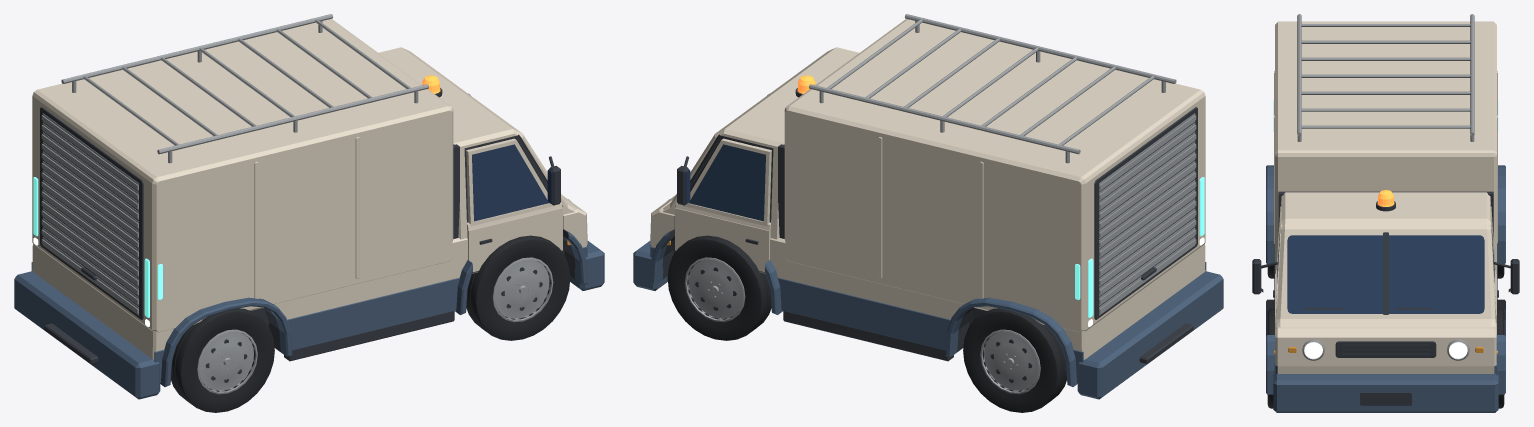
3 views of the same model, side by side, from view 1: azimuth 30°, elevation 25°; view 2: azimuth 150°, elevation 25°; view 3: azimuth 270°, elevation 25° (orthographic). The views are drawn at different scales.
Visible parts, largest first — view 1: G27_body, door-right, wheel-rear-right, wheel-front-right; view 2: G27_body, door-left, wheel-rear-left, wheel-front-left; view 3: G27_body, door-right, door-left, wheel-front-left, wheel-front-right.
Boxes of the visible parts, bbox=[...] form: G27_body: bbox=[14, 14, 604, 399]; door-right: bbox=[464, 135, 562, 272]; wheel-rear-right: bbox=[171, 308, 274, 412]; wheel-front-right: bbox=[466, 235, 570, 340]; G27_body: bbox=[633, 14, 1223, 399]; door-left: bbox=[675, 135, 773, 272]; wheel-rear-left: bbox=[963, 308, 1066, 412]; wheel-front-left: bbox=[667, 235, 771, 340]; G27_body: bbox=[1252, 14, 1519, 412]; door-right: bbox=[1273, 206, 1282, 334]; door-left: bbox=[1489, 206, 1498, 334]; wheel-front-left: bbox=[1497, 308, 1504, 408]; wheel-front-right: bbox=[1267, 308, 1274, 408].
Size of the model in its own units: 4.95 by 2.6 by 2.66.
